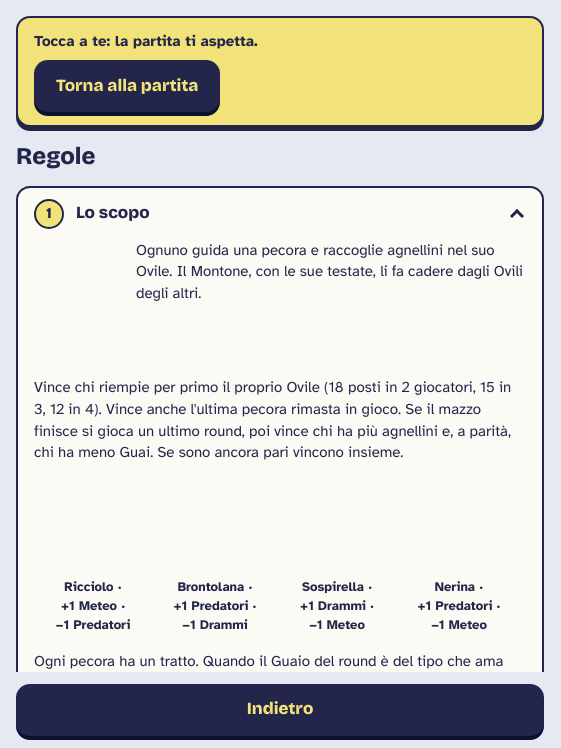
Test: Regole aperte dalla stanza › la riga "va avanti" in partita; il richiamo solo quando la partita aspetta la tua scelta, e "Torna alla partita"
Expected: the heading "Regole" is shown, [16,142,95,170]
Expected: the message with class "regole-richiamo" shows "Tocca a te: la partita ti aspetta.", [34,32,258,50]
Click the button "Torna alla partita" at (127,86), box [34,60,220,112]
Wait 50 ms
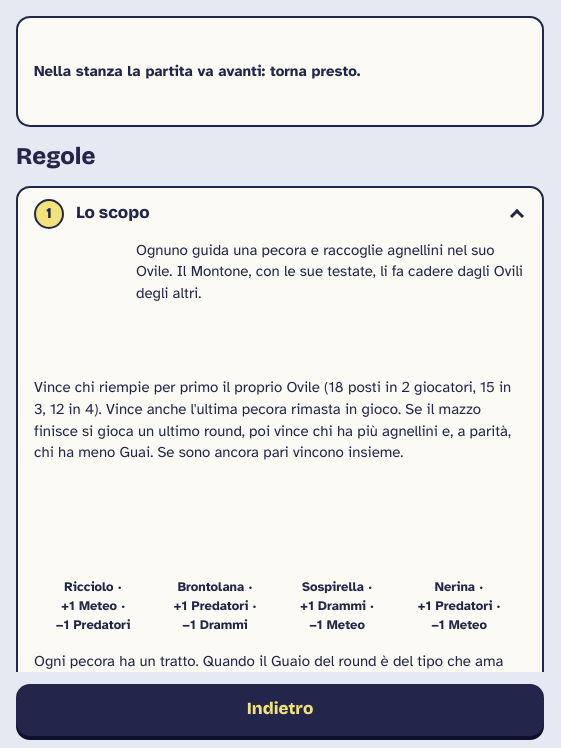
Expected: the message with class "regole-richiamo" is gone
Expected: the text with class "regole-stanza" reads "Nella stanza la partita va avanti: torna presto.", [34,62,360,80]
